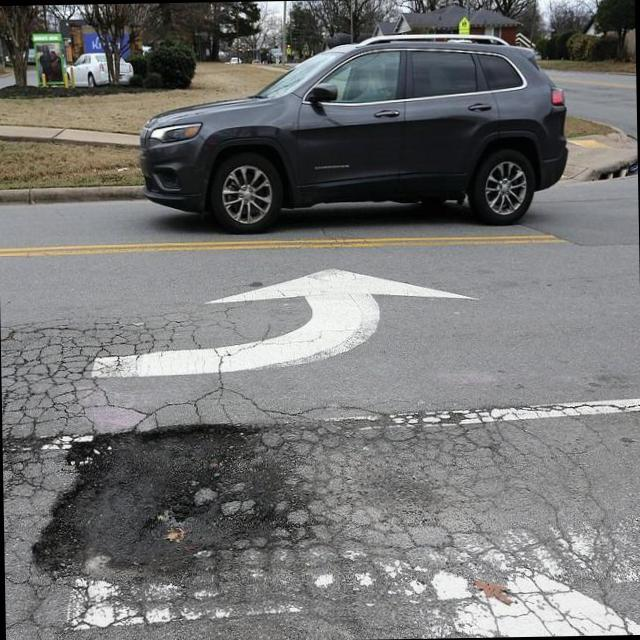Pothole: (30, 427, 271, 570)
